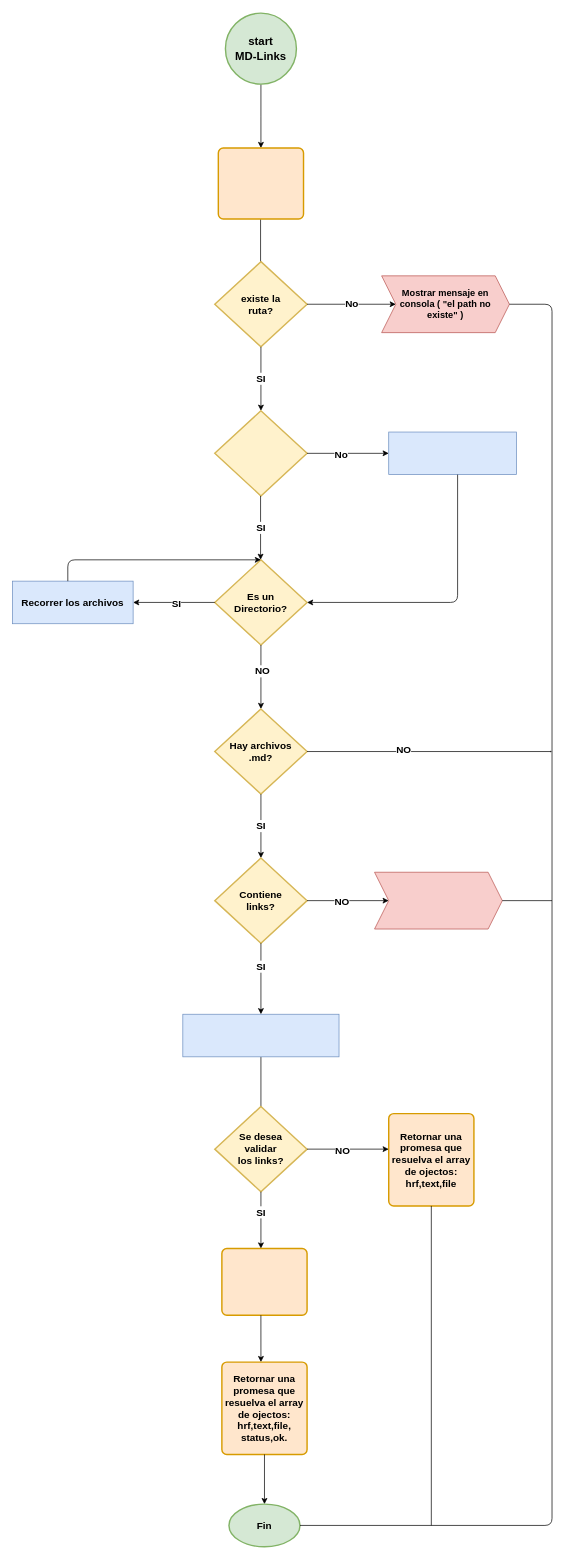
Image size: 566x1559. Some labels were removed from this diagram. Here are the shapes that lost their labels. From the top down, the box of each, then its label:
(217, 147, 304, 219): Ingresando al path
(214, 410, 307, 496): Es absoluta?
(388, 431, 517, 475): Convertir la ruta en absoluta
(374, 872, 502, 929): Mostrar mensaje en consola ( "No se encontraron links" )
(182, 1014, 339, 1057): Extraer los links y guardarlos en un array
(221, 1247, 307, 1316): Hacer una petición HTTP
